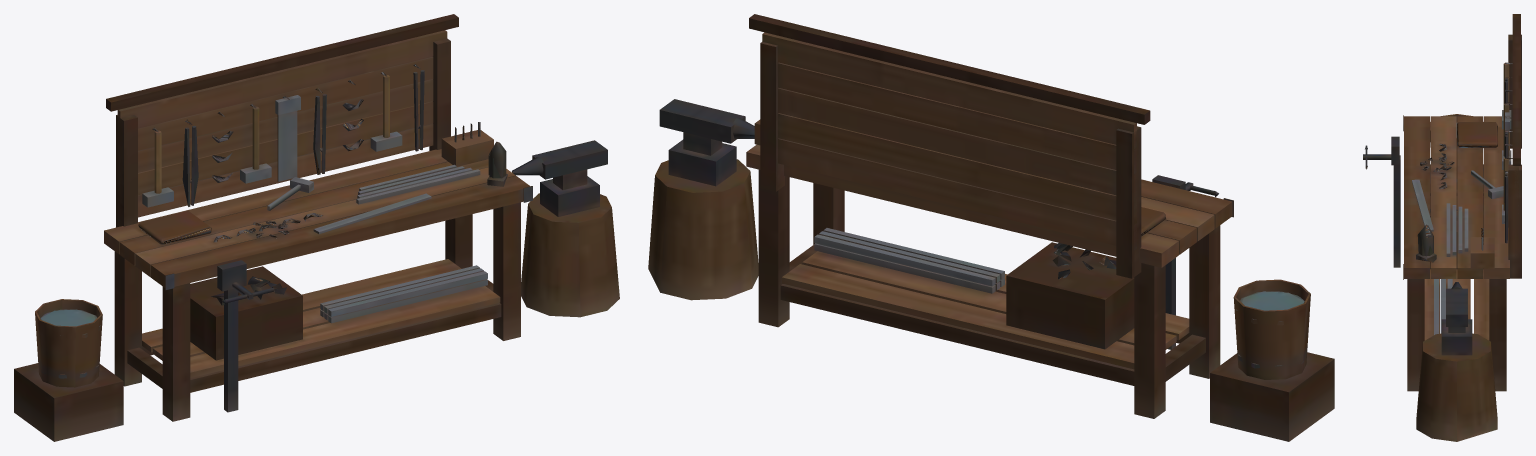
Rendered from workbench-forge.low.glb.
The picture shows the model from 3 angles, left to right: view 1: azimuth 30°, elevation 25°; view 2: azimuth 150°, elevation 25°; view 3: azimuth 270°, elevation 25°; orthographic projection. The views are drawn at different scales.
Visible parts, largest first — view 1: workbench-forge; view 2: workbench-forge; view 3: workbench-forge.
Part boxes in pixels (x1,y1,x2,y2): workbench-forge: (14,14,619,441); workbench-forge: (648,14,1334,441); workbench-forge: (1363,14,1521,441).
Bounding box in the file's own units: 3.33 × 1.5 × 0.9302.
1 material, 1 textured.
